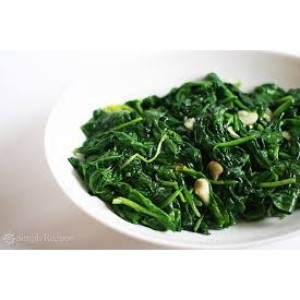spinach_brain food: (65, 67, 284, 235)
